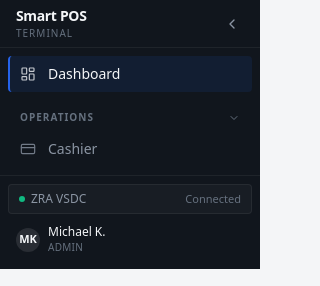
Test: Sidebar › toggling the rail-collapse button hides section labels and item text, and persists to localStorage
What coordinates should you click on to do the following:
click the button named "Collapse sidebar"
I would click on:
 (232, 24)
Its box is [220,12,244,36].
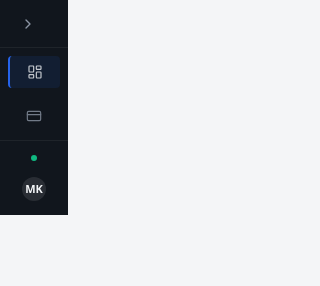
Now the button "OPERATIONS" is gone
Now the button "Cashier" is gone
